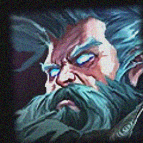Zilean: (8, 4, 142, 141)
